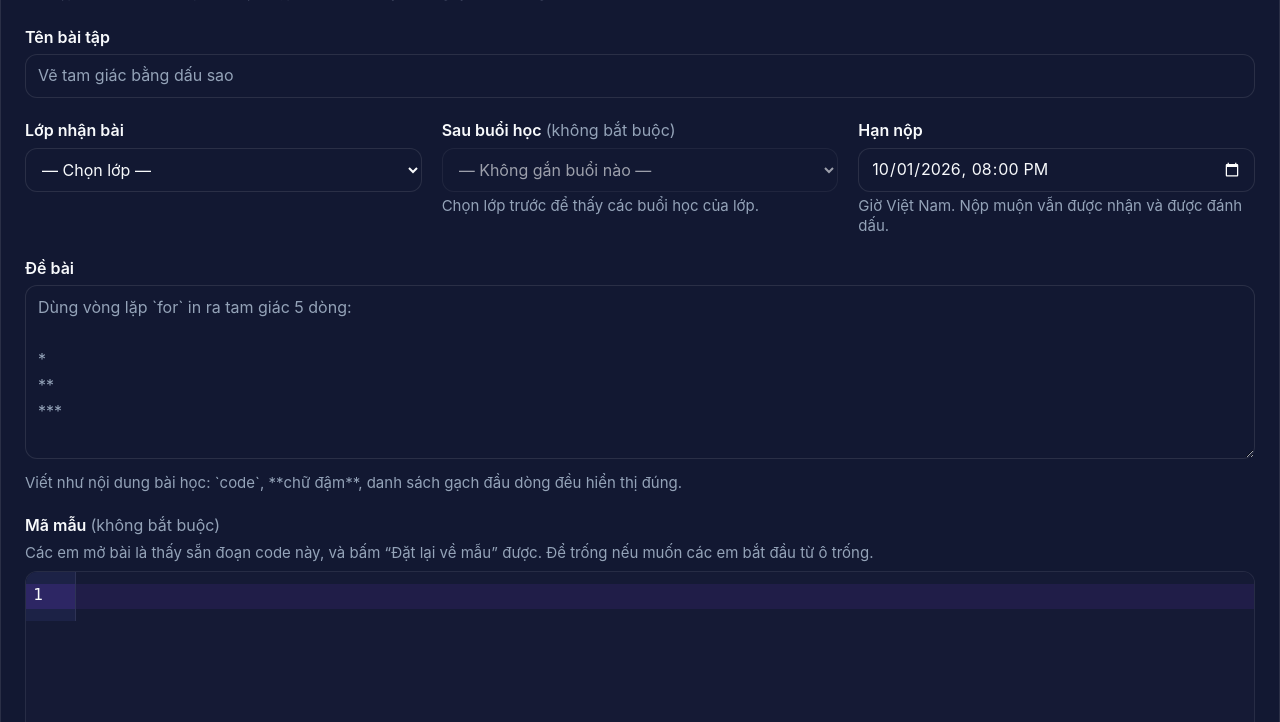
Biểu mẫu giao bài › gửi đủ mọi trường, kể cả mã mẫu từ khung soạn thảo
The width and height of the screenshot is (1280, 722).
Type "Tam giác sao" into the field labelled "Tên bài tập".
click(640, 76); type("Tam giác sao")  # box x1=25 y1=54 x2=1255 y2=98
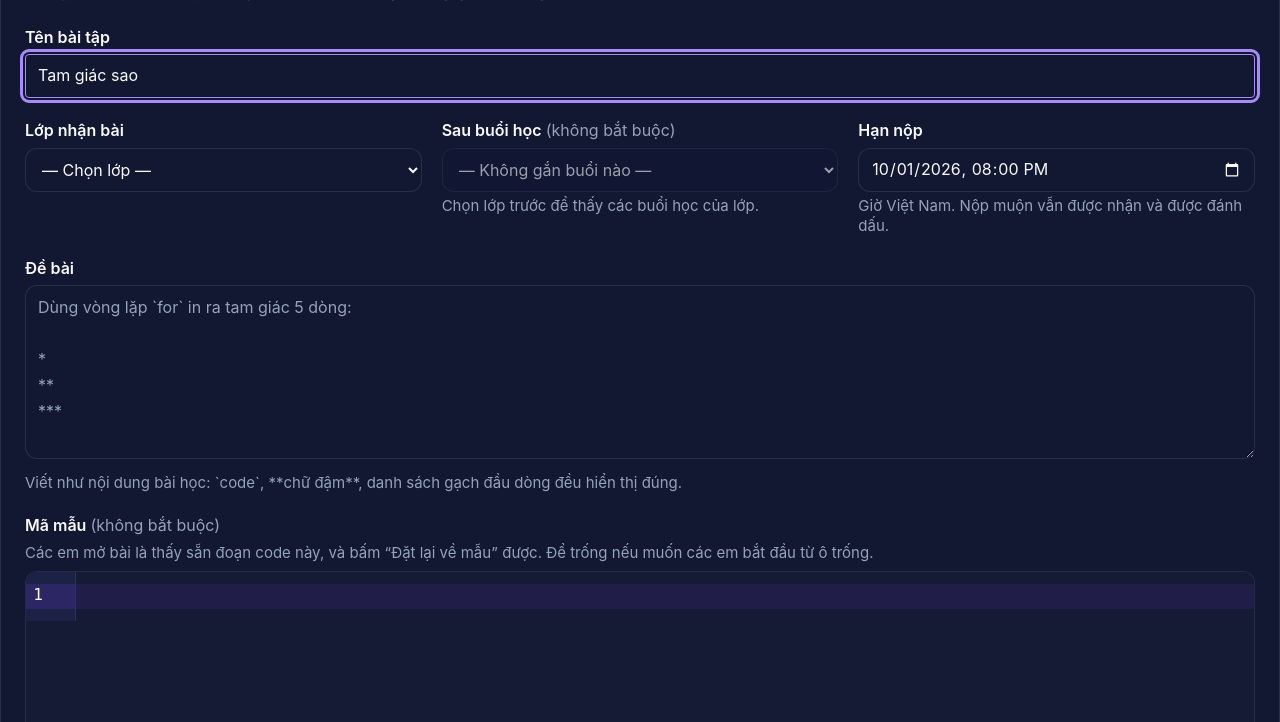
Select "Lập trình cơ bản (24 em)" in the dropdown labelled "Lớp nhận bài" at (223, 170), box x1=25 y1=148 x2=422 y2=192
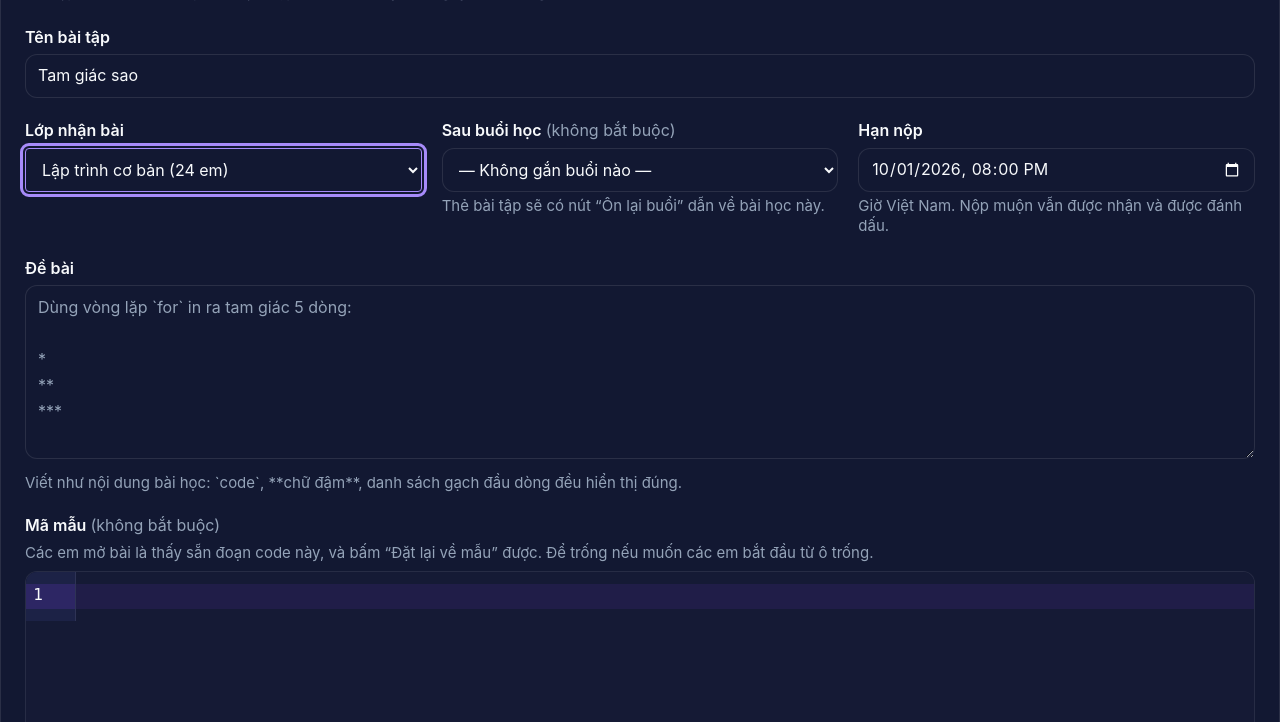
Select "Buổi 2 · Biến" in the dropdown labelled "Sau buổi học (không bắt buộc)" at (640, 170), box x1=442 y1=148 x2=838 y2=192
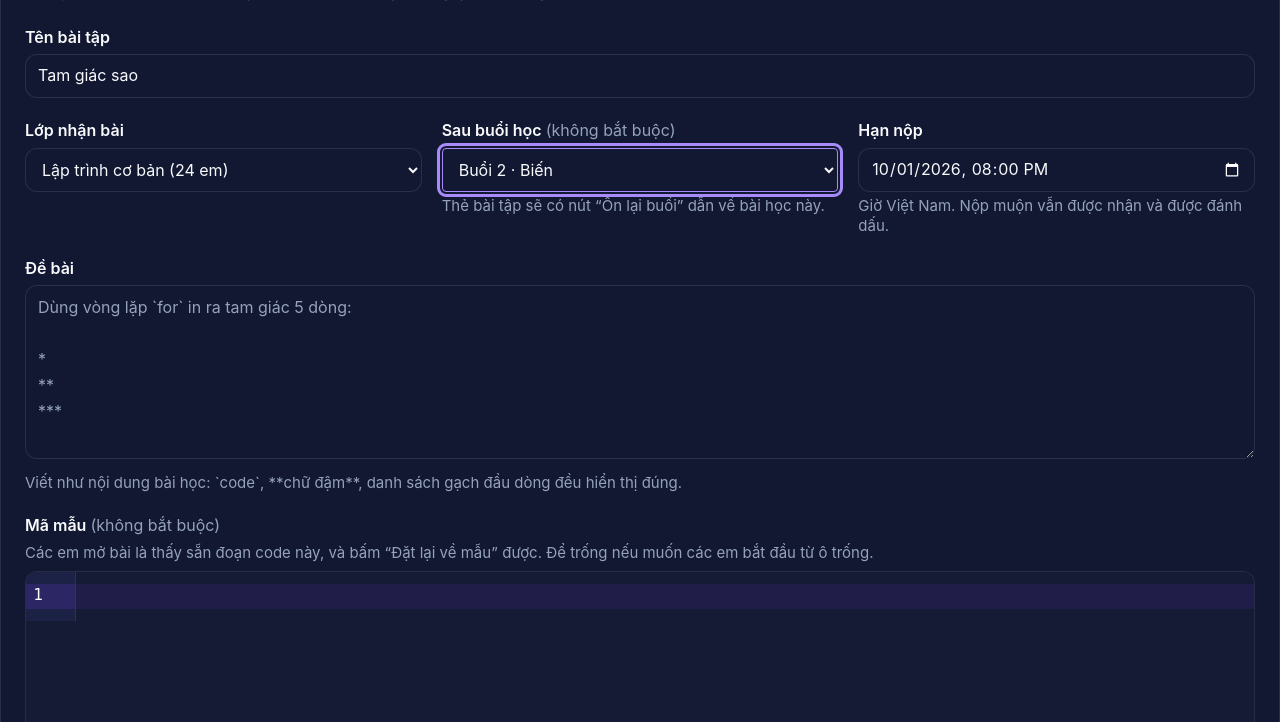
Type "In ra tam giác 5 dòng." into the text box labelled "Đề bài".
click(640, 372); type("In ra tam giác 5 dòng.")  # box x1=25 y1=285 x2=1255 y2=459
(page scrolled)
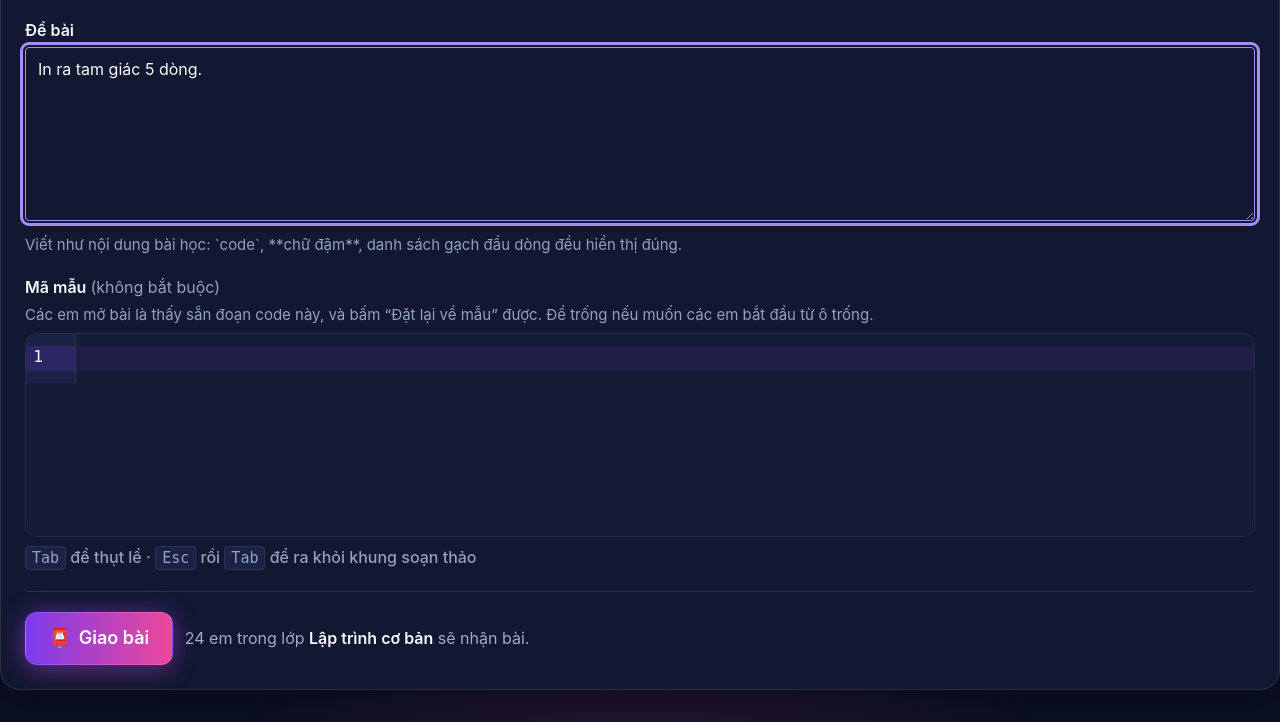
Click the button "📮 Giao bài".
click(99, 639)  # box x1=25 y1=612 x2=173 y2=665
(page scrolled)
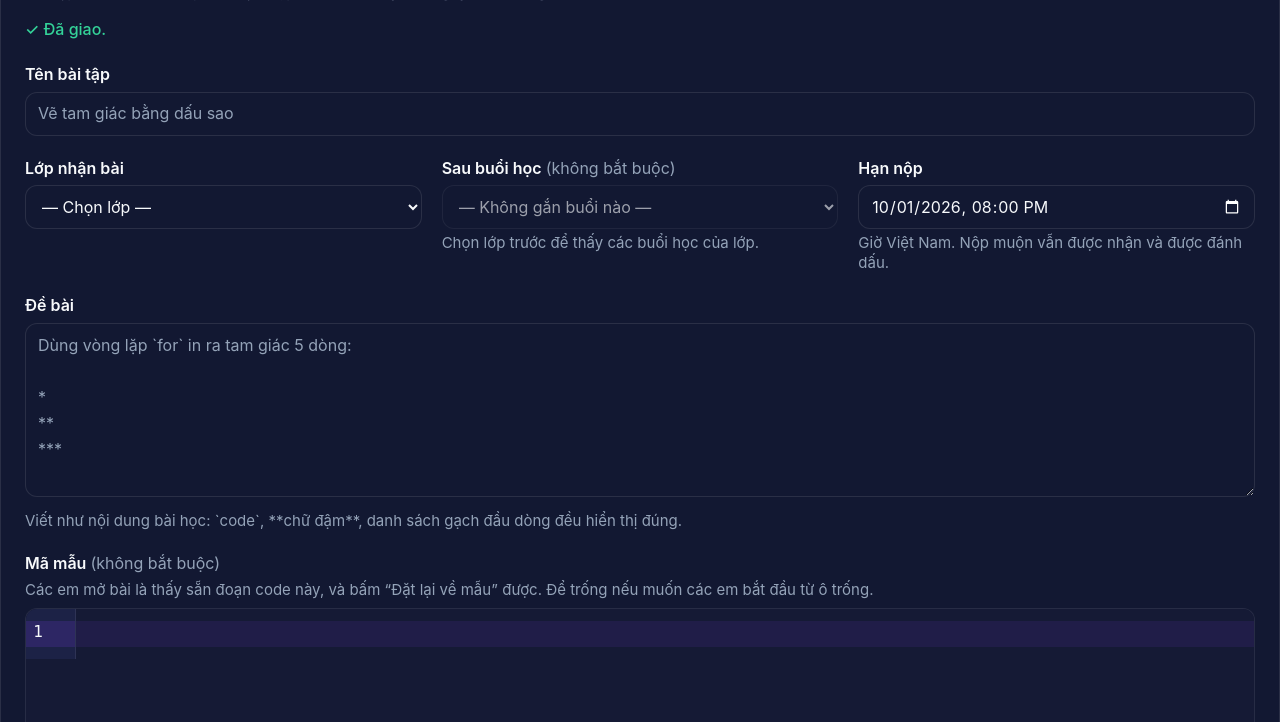
Result: the text "Đã giao." is shown at x1=43 y1=19 x2=106 y2=39
